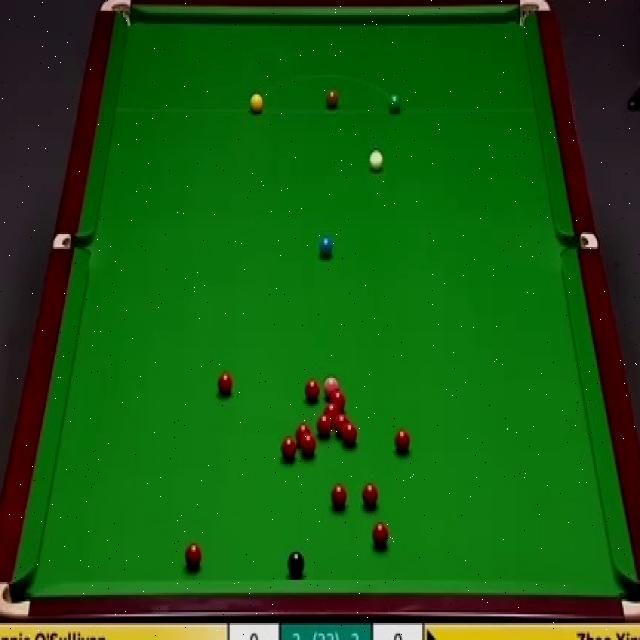black-ball: (287, 548, 305, 577)
blue-ball: (317, 235, 333, 260)
brown-ball: (325, 90, 338, 110)
green-ball: (388, 93, 401, 114)
pink-ball: (324, 376, 340, 392)
red-ball: (371, 522, 389, 550), (185, 543, 203, 570), (304, 377, 321, 405), (395, 429, 412, 454), (331, 484, 348, 508), (342, 421, 358, 446), (301, 433, 317, 456), (362, 484, 378, 507), (218, 370, 232, 396), (281, 437, 297, 459), (295, 421, 311, 440), (316, 415, 332, 434), (322, 402, 342, 417), (334, 415, 350, 433), (329, 391, 348, 404)
white-ball: (368, 147, 384, 173)
yellow-ball: (249, 91, 265, 114)
